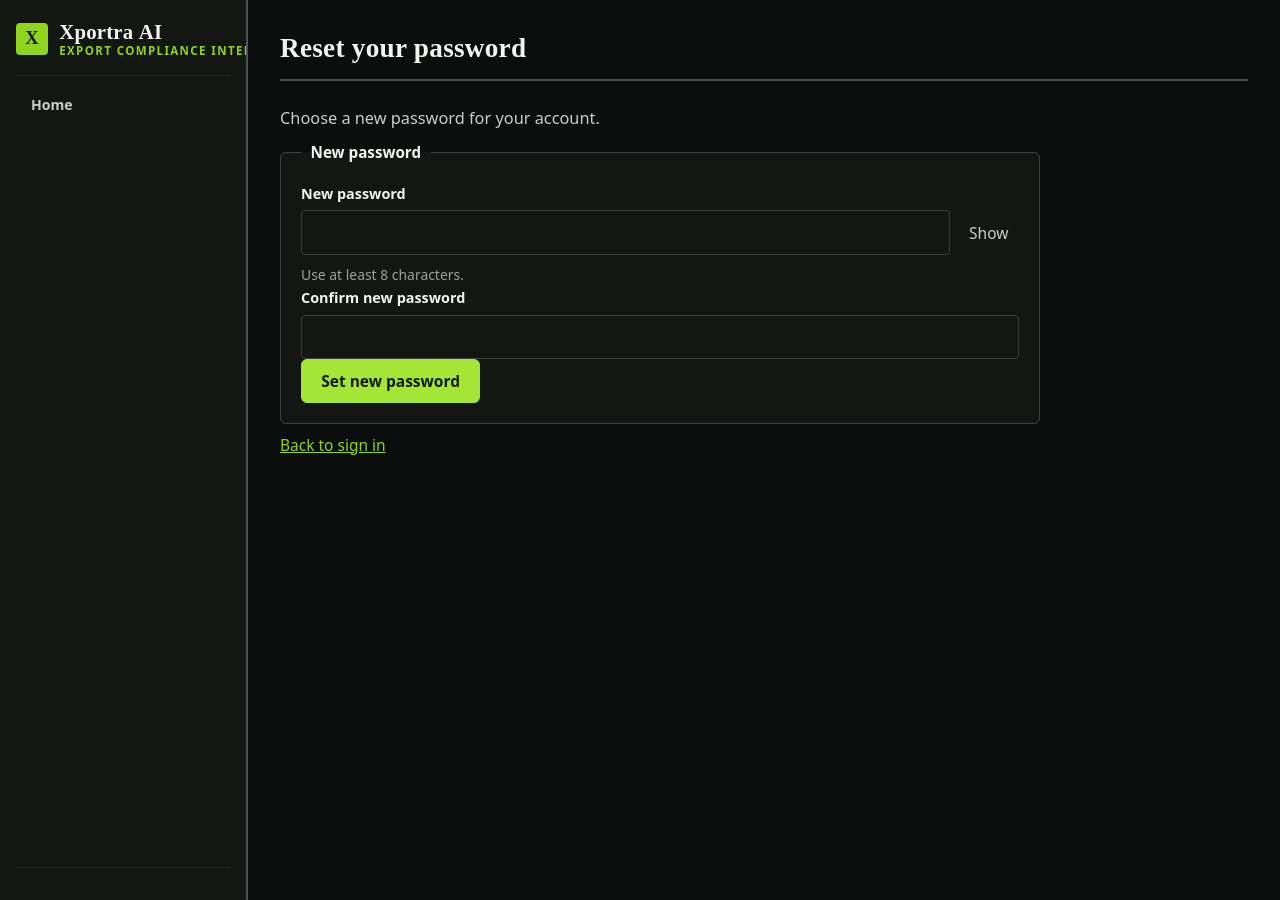
Test: ResetPasswordPage › enforces a minimum password length
Type "short" into the password field labelled "New password" at (626, 233), box [301,210,950,255]
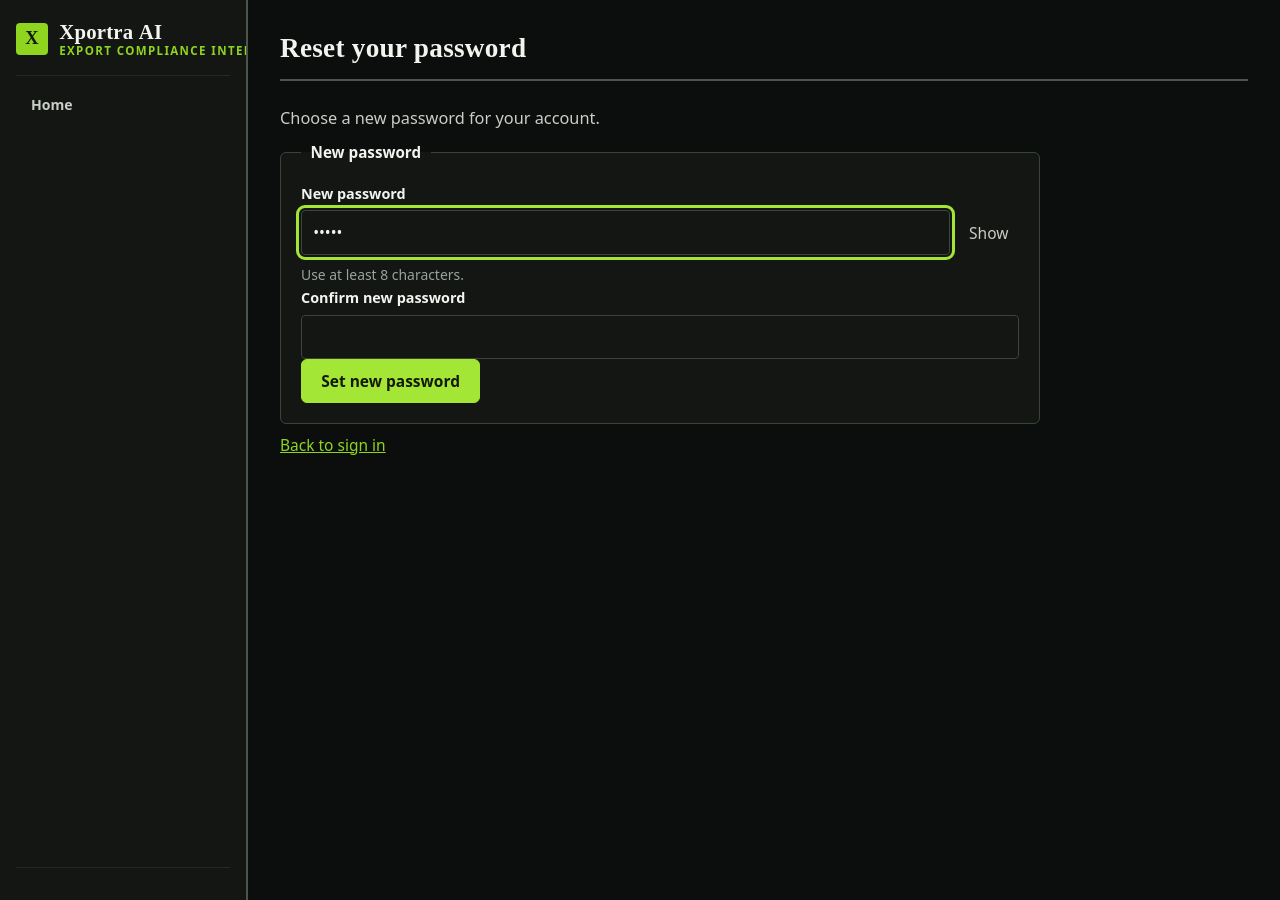
Type "short" into the password field labelled "Confirm new password" at (660, 337), box [301,314,1019,359]
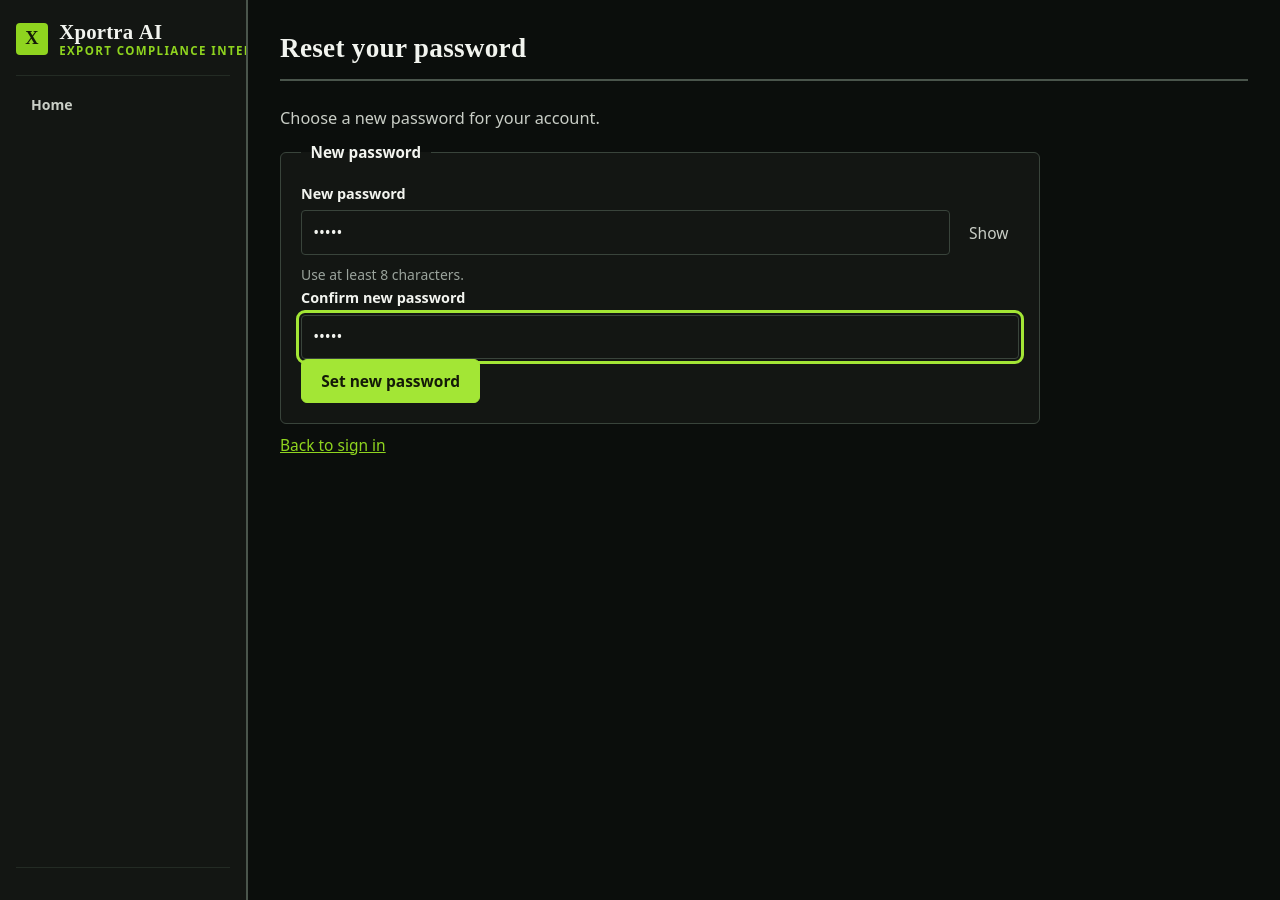
Click the button "Set new password" at (391, 381), box [301,359,480,403]
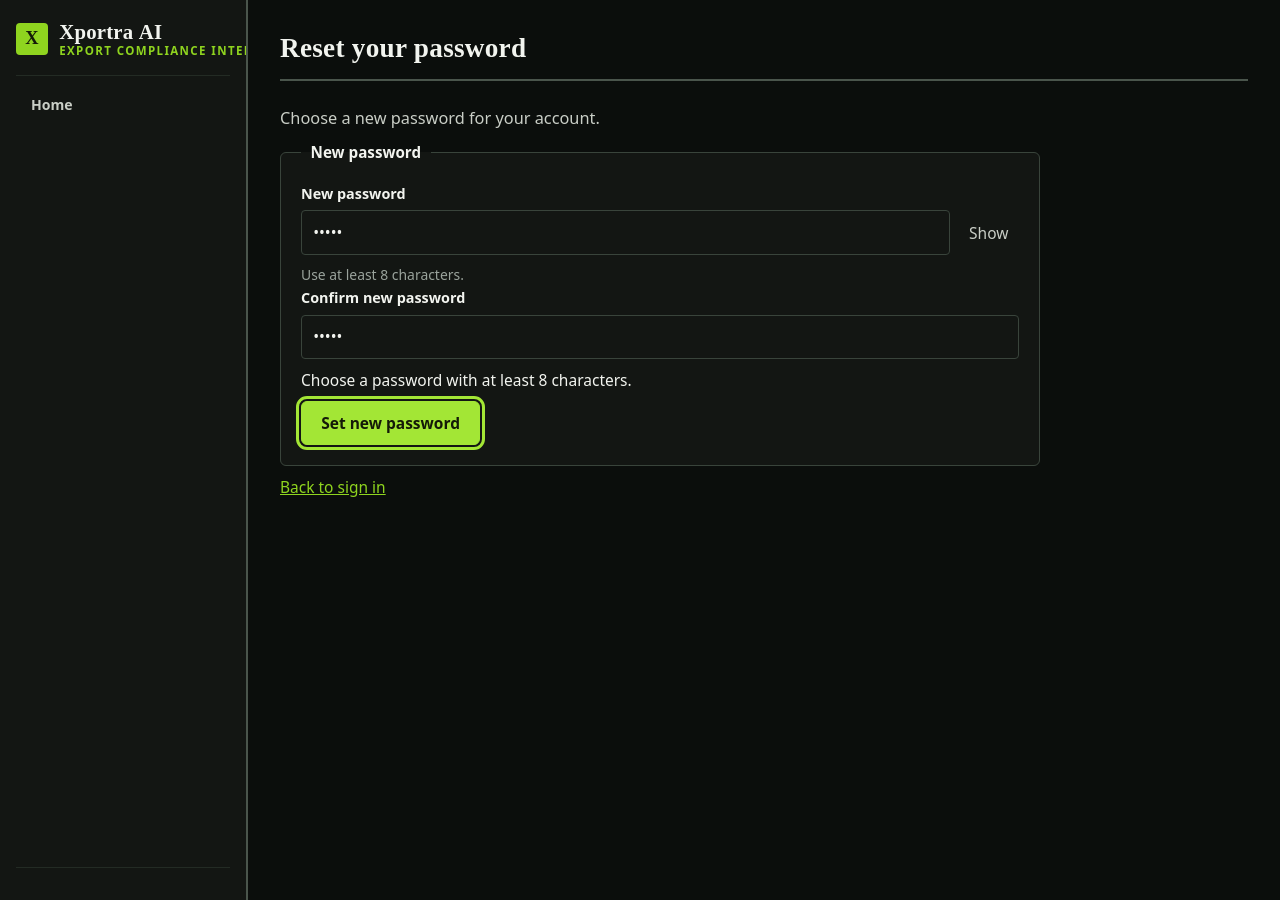
Expected: the message shows "at least 8 characters", [301,369,632,391]
